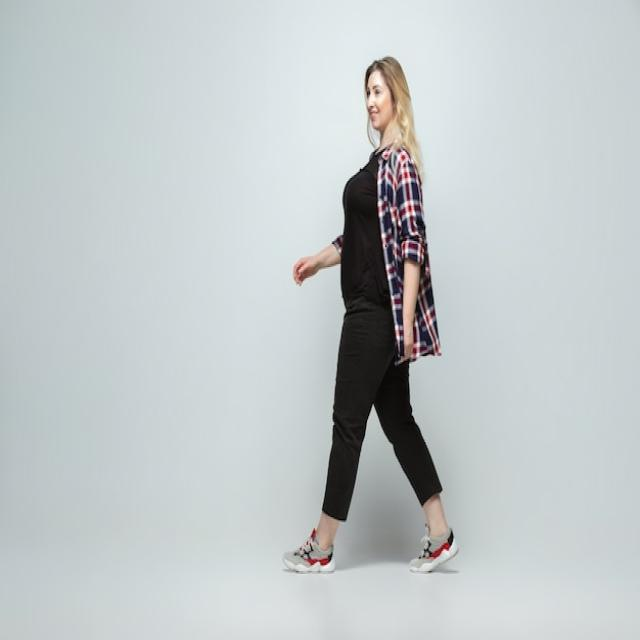Person: (283, 56, 458, 576)
